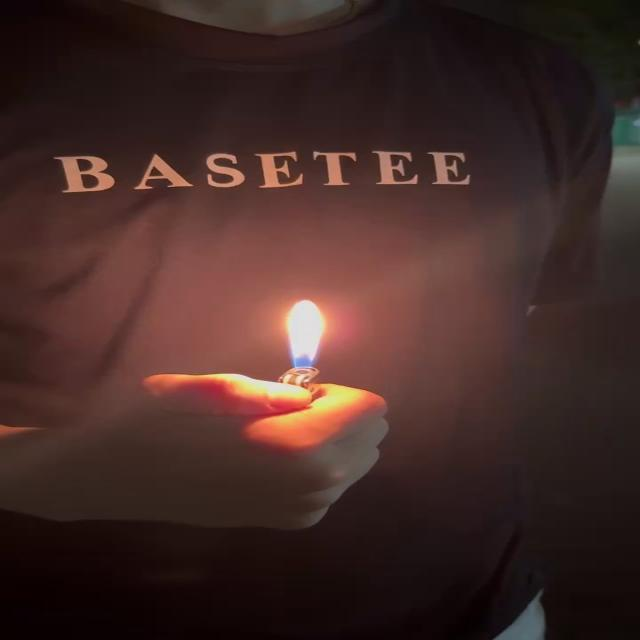Fire: (284, 295, 332, 374)
